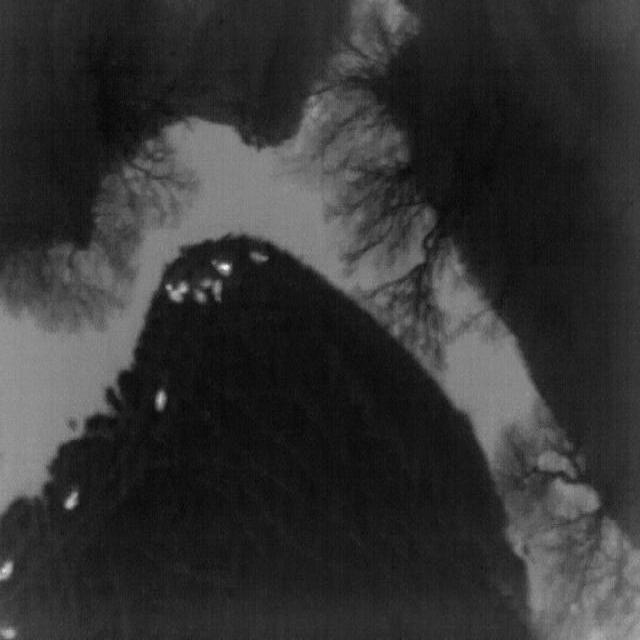deer: (154, 389, 168, 413), (166, 284, 183, 303), (212, 260, 232, 276), (0, 560, 14, 582), (64, 492, 79, 510), (212, 280, 224, 302), (248, 251, 269, 263), (0, 627, 16, 640), (176, 282, 190, 294), (194, 290, 206, 304), (200, 278, 212, 290)
